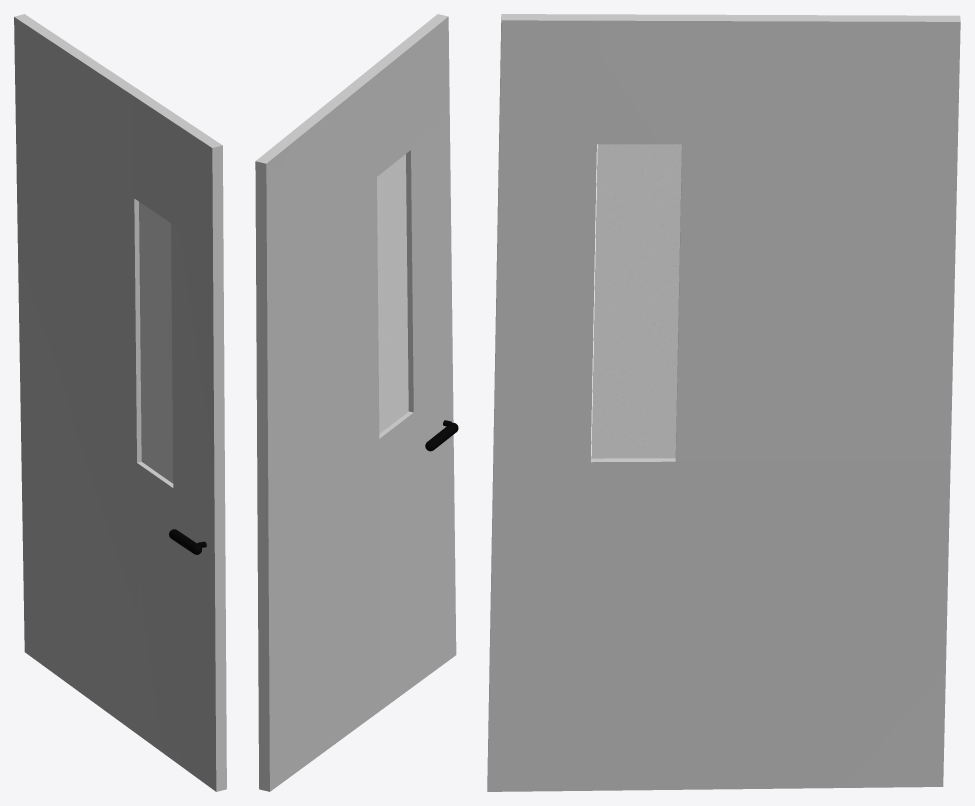
The model's file is Door_model.fbx.
3 views of the same model, side by side, from view 1: azimuth 30°, elevation 25°; view 2: azimuth 150°, elevation 25°; view 3: azimuth 270°, elevation 25° (orthographic). The views are drawn at different scales.
Visible parts, largest first — view 1: s.0571_Thicken, s.0763, p.0572; view 2: s.0571_Thicken, s.0763, p.0572; view 3: s.0571_Thicken, s.0763.
Boxes of the visible parts, <box> form: s.0571_Thicken: <box>14,14,226,791</box>; s.0763: <box>139,202,173,483</box>; p.0572: <box>169,529,201,554</box>; s.0571_Thicken: <box>255,14,456,791</box>; s.0763: <box>377,154,408,433</box>; p.0572: <box>425,422,458,451</box>; s.0571_Thicken: <box>487,14,960,791</box>; s.0763: <box>591,144,681,458</box>.
Size of the model in its own units: 283 by 3784 by 6816.
3 materials, 1 textured.
